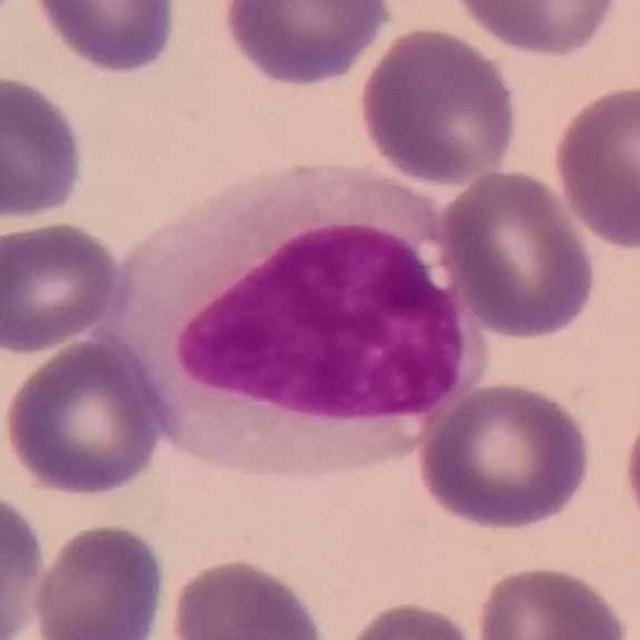Monocyte: (107, 160, 496, 483)
RBC: (435, 164, 601, 342), (410, 376, 596, 534), (1, 333, 170, 501), (353, 21, 522, 189), (0, 216, 130, 357), (27, 518, 170, 640), (216, 0, 396, 90), (548, 79, 640, 253), (164, 553, 330, 640), (0, 70, 89, 226), (470, 560, 633, 640), (24, 0, 184, 78), (445, 0, 627, 60), (0, 486, 49, 640), (331, 596, 488, 640), (619, 392, 640, 550)
